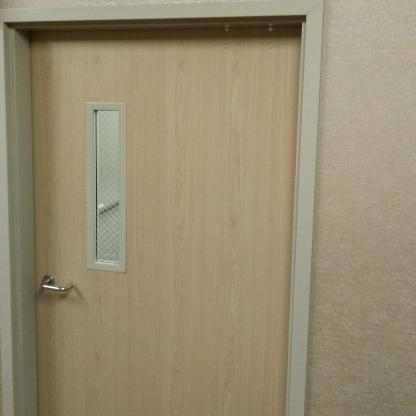door: (32, 25, 290, 415)
lever: (38, 280, 76, 294)
